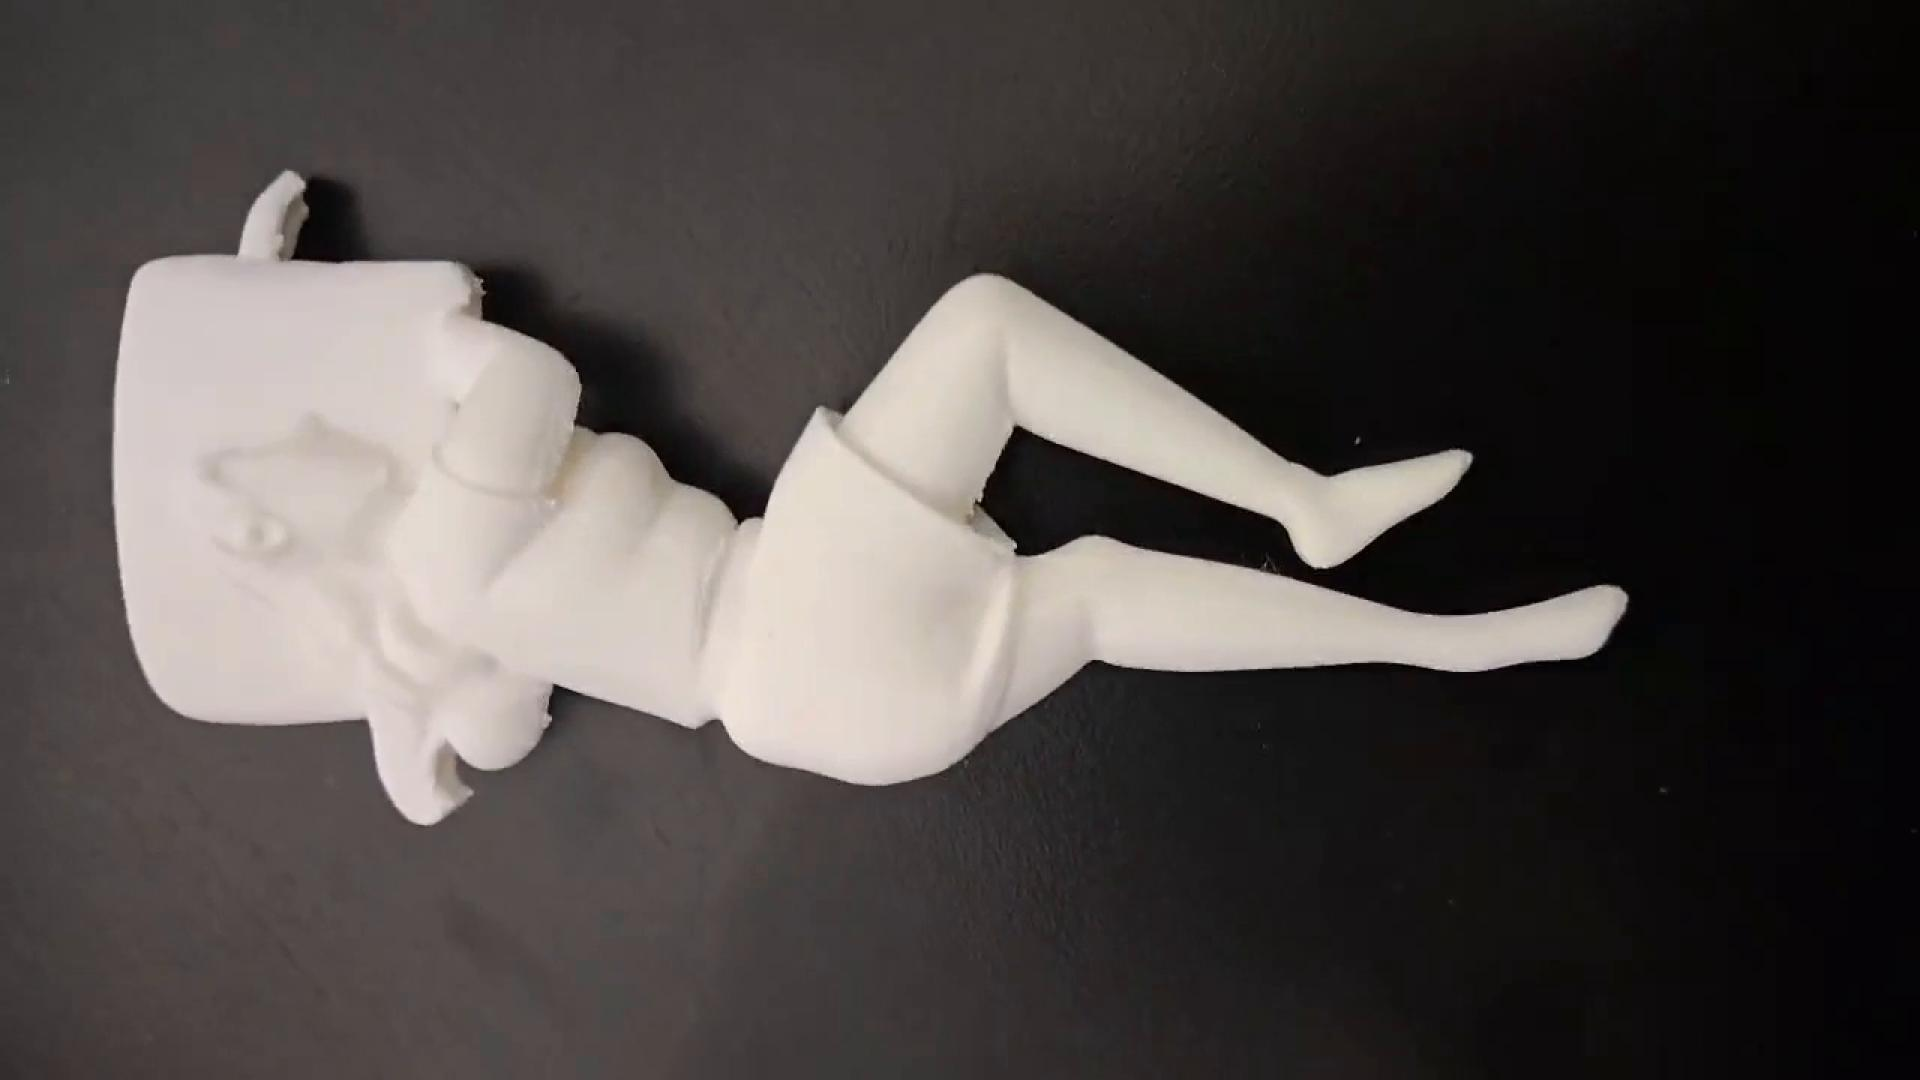Good-style: (107, 171, 1627, 825)
